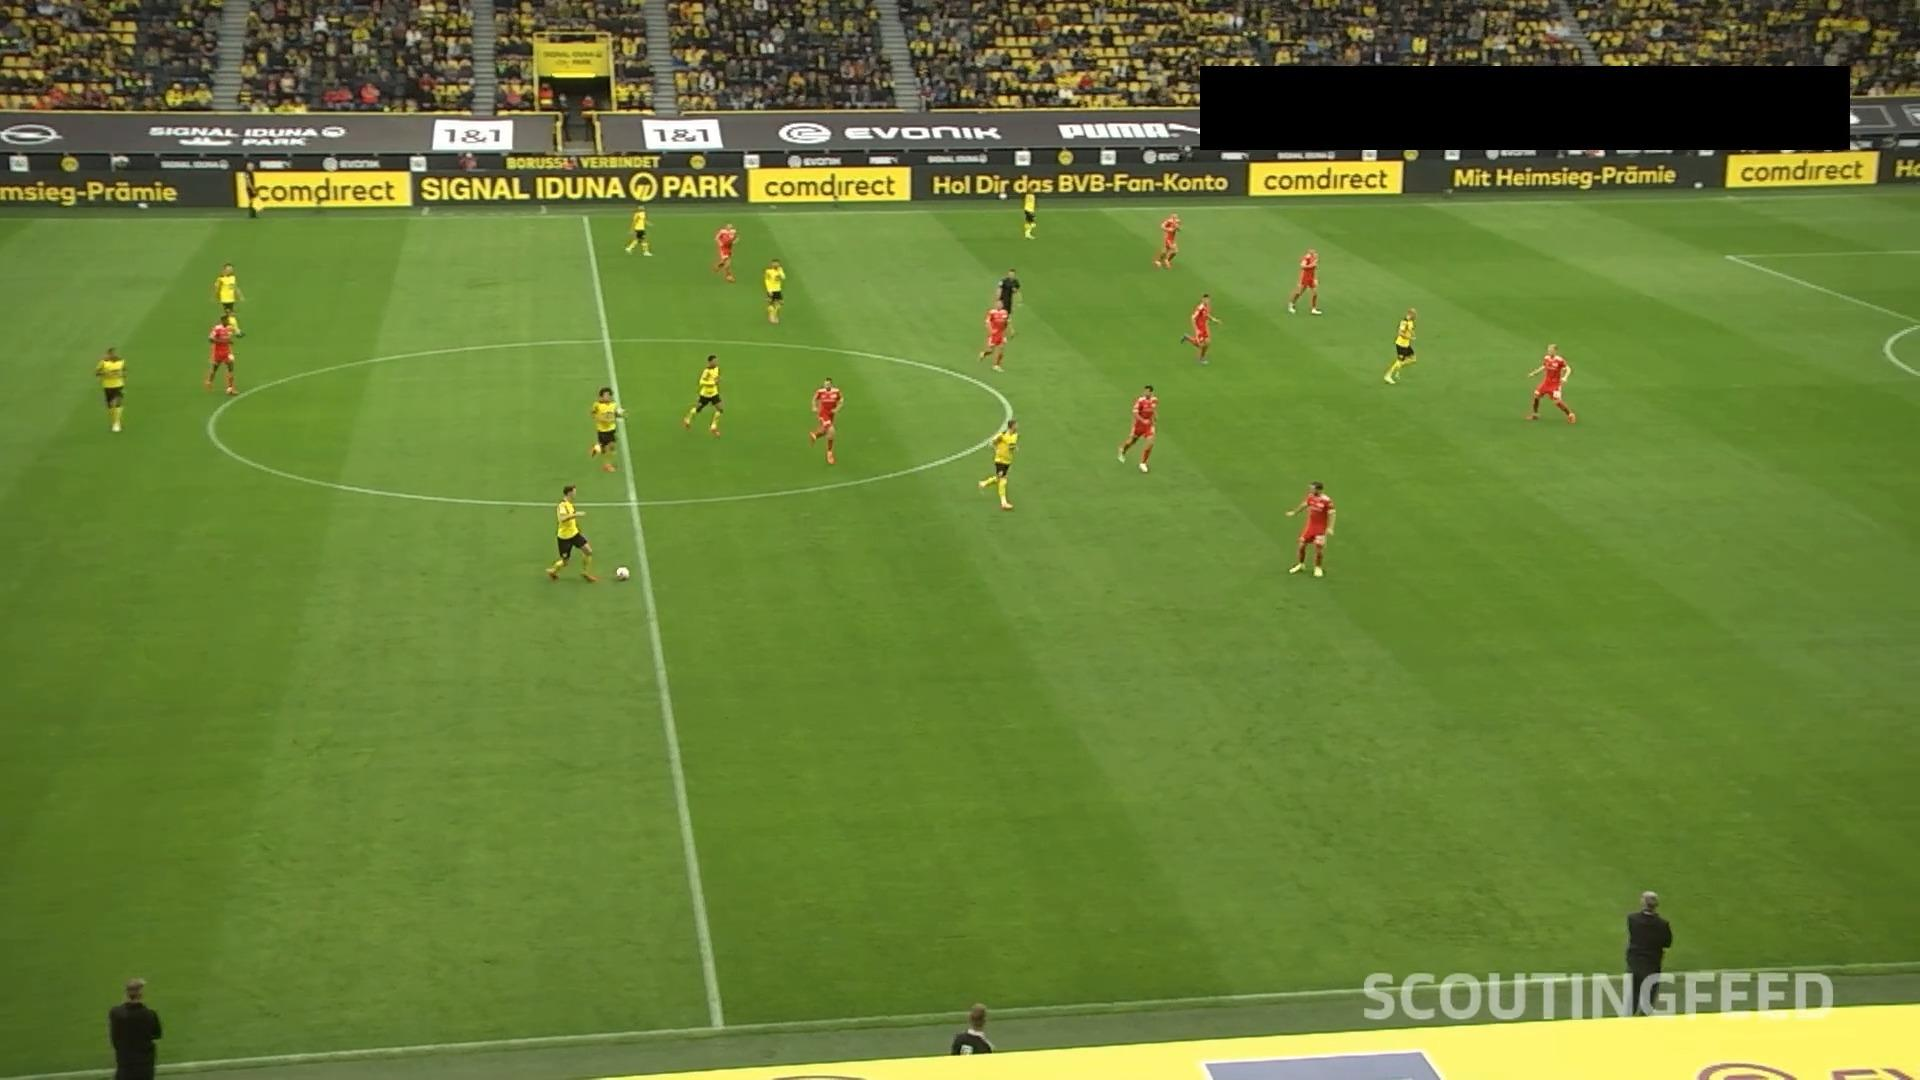ball: (613, 566, 632, 584)
